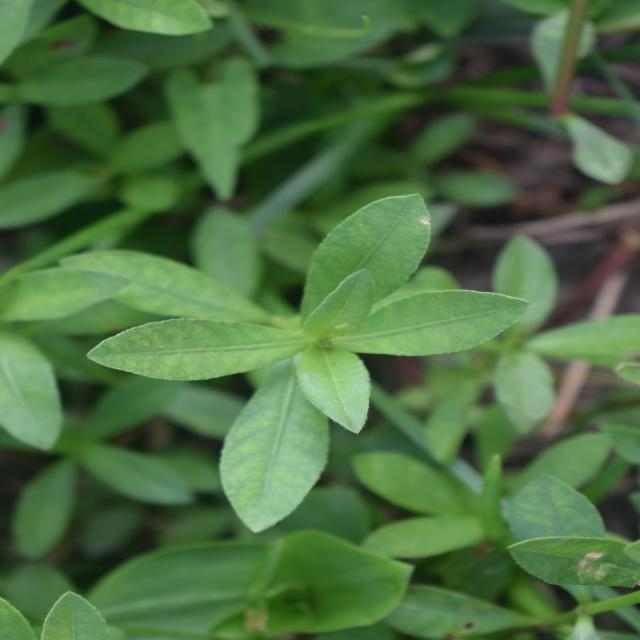Alligatorweed: (138, 102, 434, 503)
